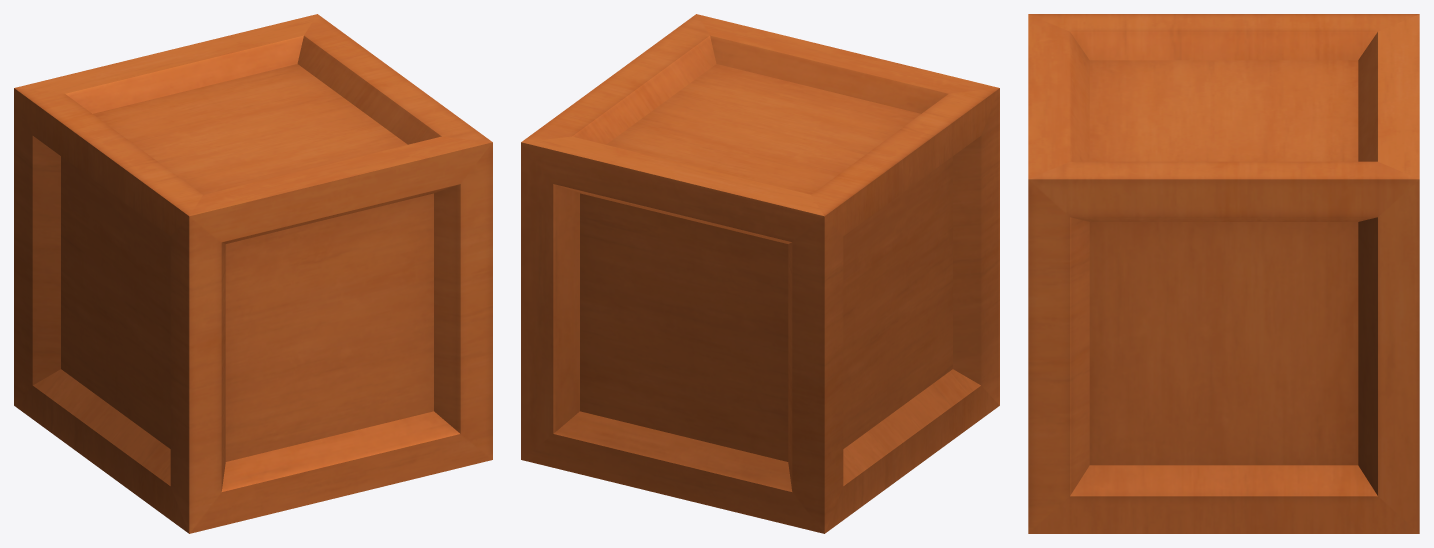
The model's file is woodBox01_03.fbx.
3 views of the same model, side by side, from view 1: azimuth 30°, elevation 25°; view 2: azimuth 150°, elevation 25°; view 3: azimuth 270°, elevation 25° (orthographic). The views are drawn at different scales.
Visible parts, largest first — view 1: polySurface185; view 2: polySurface185; view 3: polySurface185.
Boxes of the visible parts, bbox=[...] form: polySurface185: bbox=[14, 14, 492, 533]; polySurface185: bbox=[521, 14, 999, 533]; polySurface185: bbox=[1028, 14, 1419, 533].
Bounding box in the file's own units: 10.09 × 10.09 × 10.09.
1 material, 1 textured.
